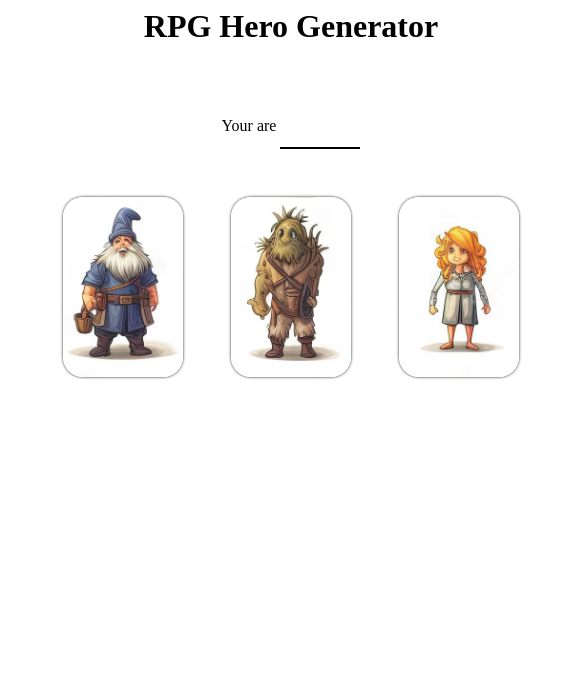
Test: Give bonus points › Use bonus point when an empty GaugeUnit is clicked
Click the 3rd element with test id "hero-card": (459,287) [399,197,519,377]
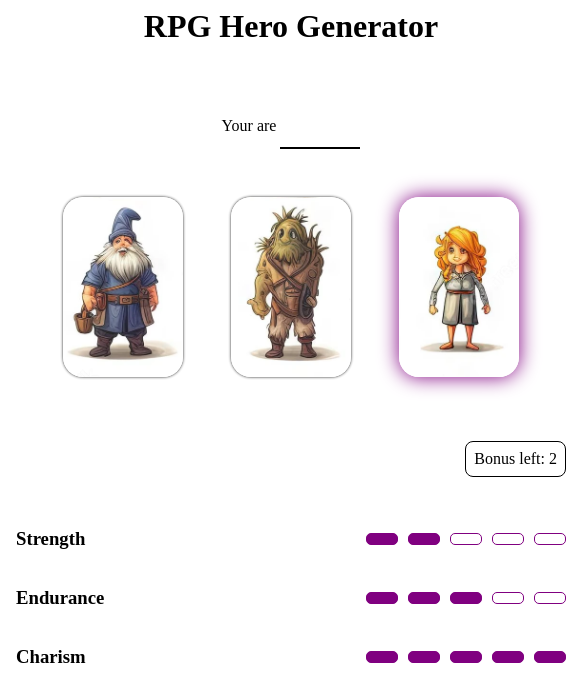
Expected: the text with test id "bonus-counter" reads "2", [549,450,557,467]
Click the 4th element with test id "gauge-unit": (508,539) [492,533,524,545]
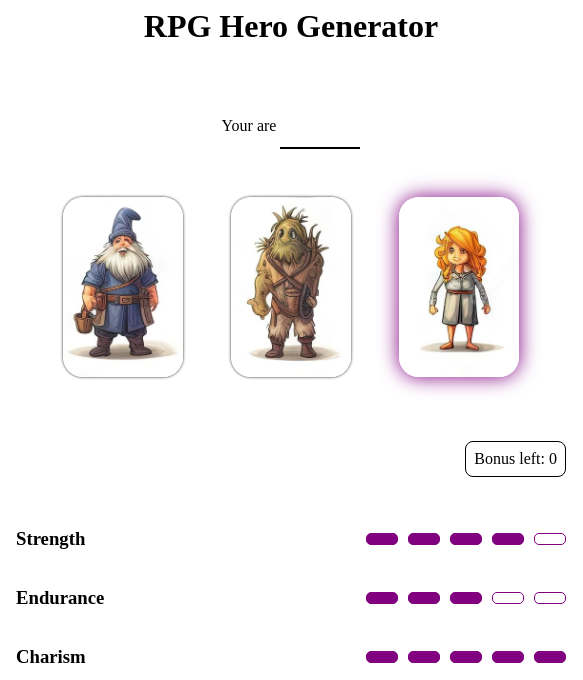
Expected: the text with test id "bonus-counter" reads "0", [549,450,557,467]
